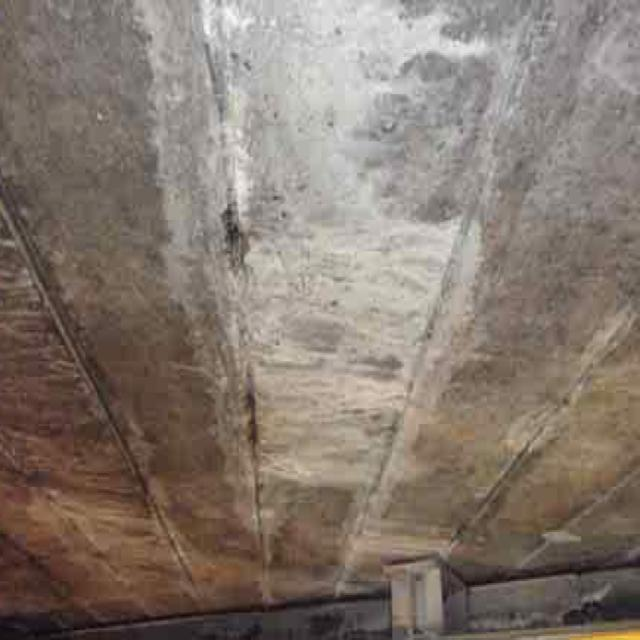freelime: (213, 191, 457, 503)
